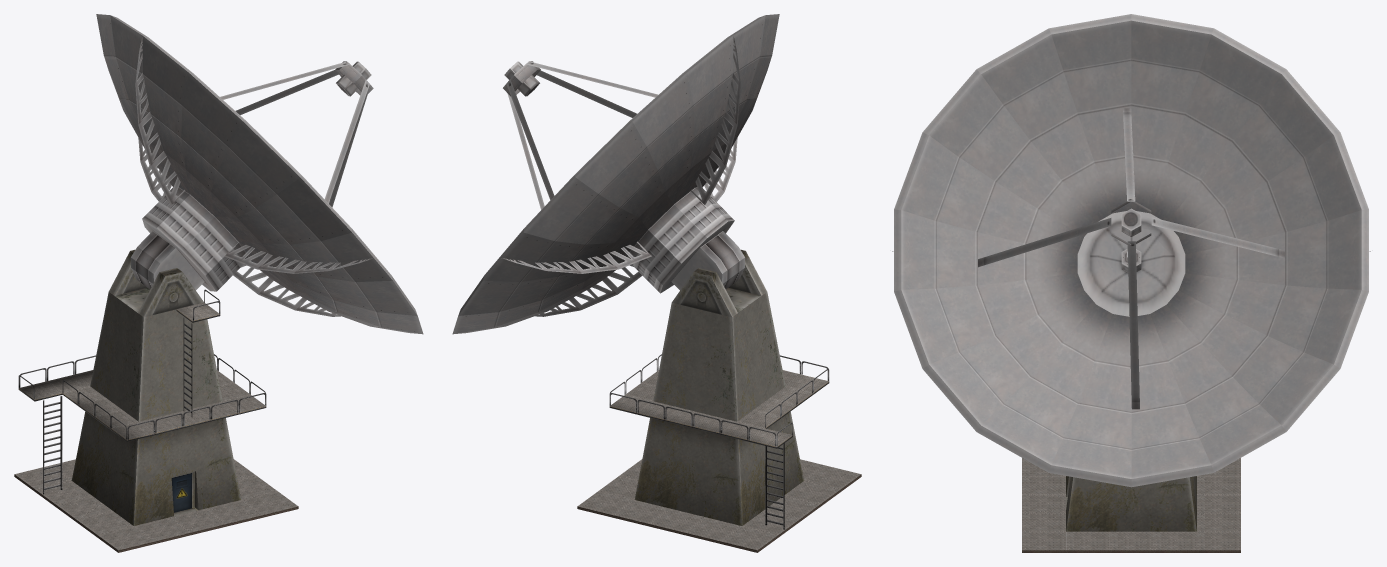
File: satellite.fbx
The picture shows the model from 3 angles, left to right: view 1: azimuth 30°, elevation 25°; view 2: azimuth 150°, elevation 25°; view 3: azimuth 270°, elevation 25°; orthographic projection. The views are drawn at different scales.
Parts seen in each view (by area): view 1: BASEmaterial-material.001; view 2: BASEmaterial-material.001; view 3: BASEmaterial-material.001.
Part boxes in pixels (x1,y1,x2,y2): BASEmaterial-material.001: (14, 14, 423, 552); BASEmaterial-material.001: (452, 14, 861, 552); BASEmaterial-material.001: (892, 14, 1370, 552).
Bounding box in the file's own units: 697 × 964 × 869.
Materials: 1 (1 with a texture image).
